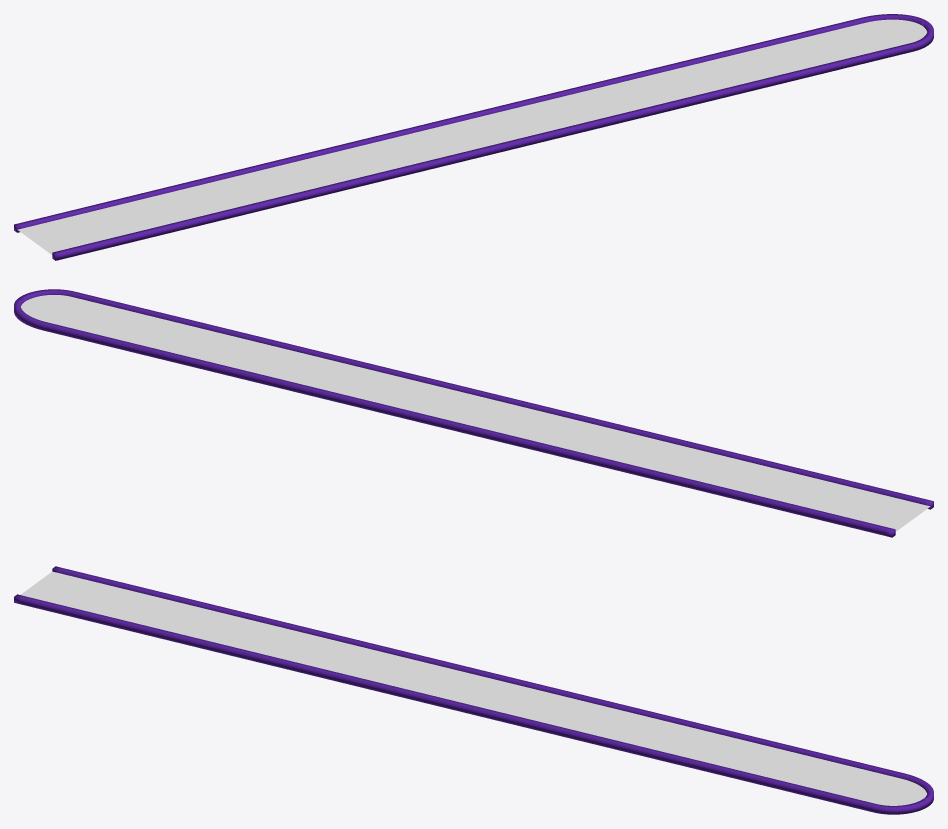
Rendered from platformEnding.fbx.
3 views of the same model, one above another, from view 1: azimuth 30°, elevation 25°; view 2: azimuth 150°, elevation 25°; view 3: azimuth 330°, elevation 25° (orthographic).
Visible parts, largest first — view 1: Ending, EndingBorder; view 2: Ending, EndingBorder; view 3: Ending, EndingBorder.
Part boxes in pixels (x1,y1,x2,y2): Ending: (17, 19, 926, 254); EndingBorder: (14, 14, 933, 260); Ending: (21, 295, 930, 531); EndingBorder: (14, 289, 933, 537); Ending: (20, 571, 926, 805); EndingBorder: (14, 566, 933, 814).
Bounding box in the file's own units: 7821 × 50 × 631.
2 materials, 1 textured.
